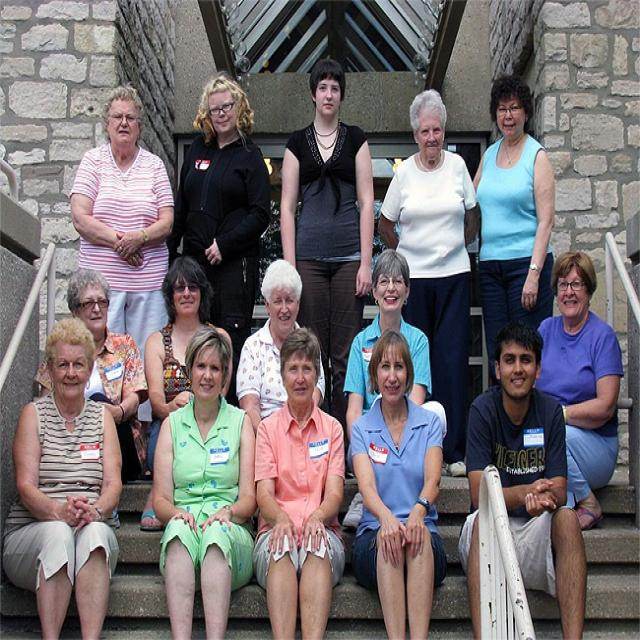body: (456, 314, 594, 638), (277, 51, 377, 483), (0, 310, 130, 638), (377, 85, 482, 479), (68, 83, 176, 443), (164, 72, 273, 408), (148, 322, 259, 638), (338, 238, 448, 532), (250, 322, 349, 638), (351, 328, 445, 640), (470, 75, 557, 392), (530, 248, 626, 534), (137, 255, 234, 535), (32, 266, 150, 485), (234, 257, 327, 438)
